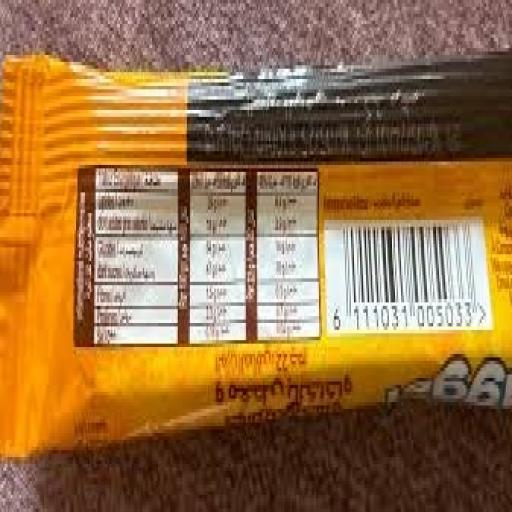tagger: (8, 16, 508, 468)
